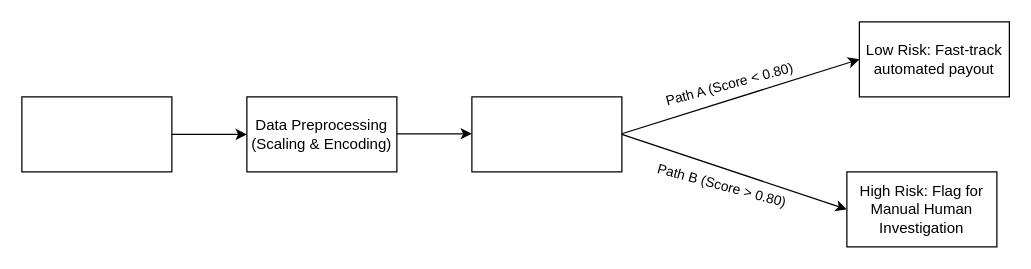
Image size: 1031x269. Some labels were removed from this diagram. The box of each missing label's shape, as (x1, y1, x2, y2) in pixels:
Feed-Forward Neural Network (Fraud Scoring): (471, 96, 622, 172)
New Claim Submitted: (21, 96, 172, 172)
